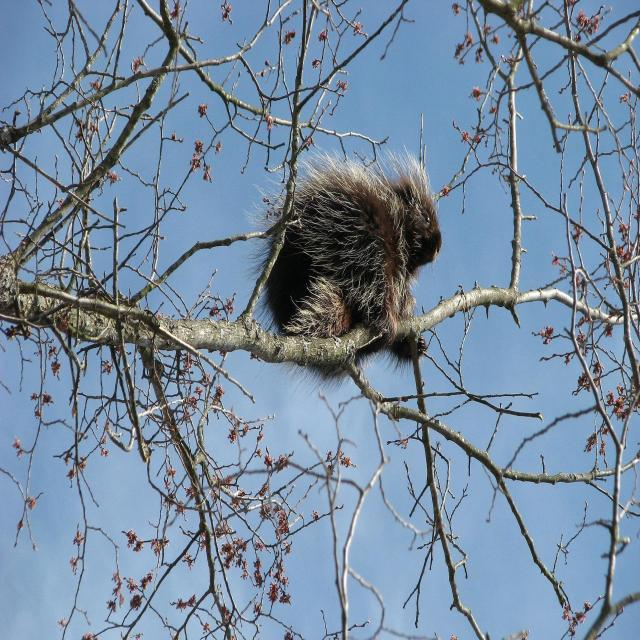Porcupine: (270, 158, 441, 362)
